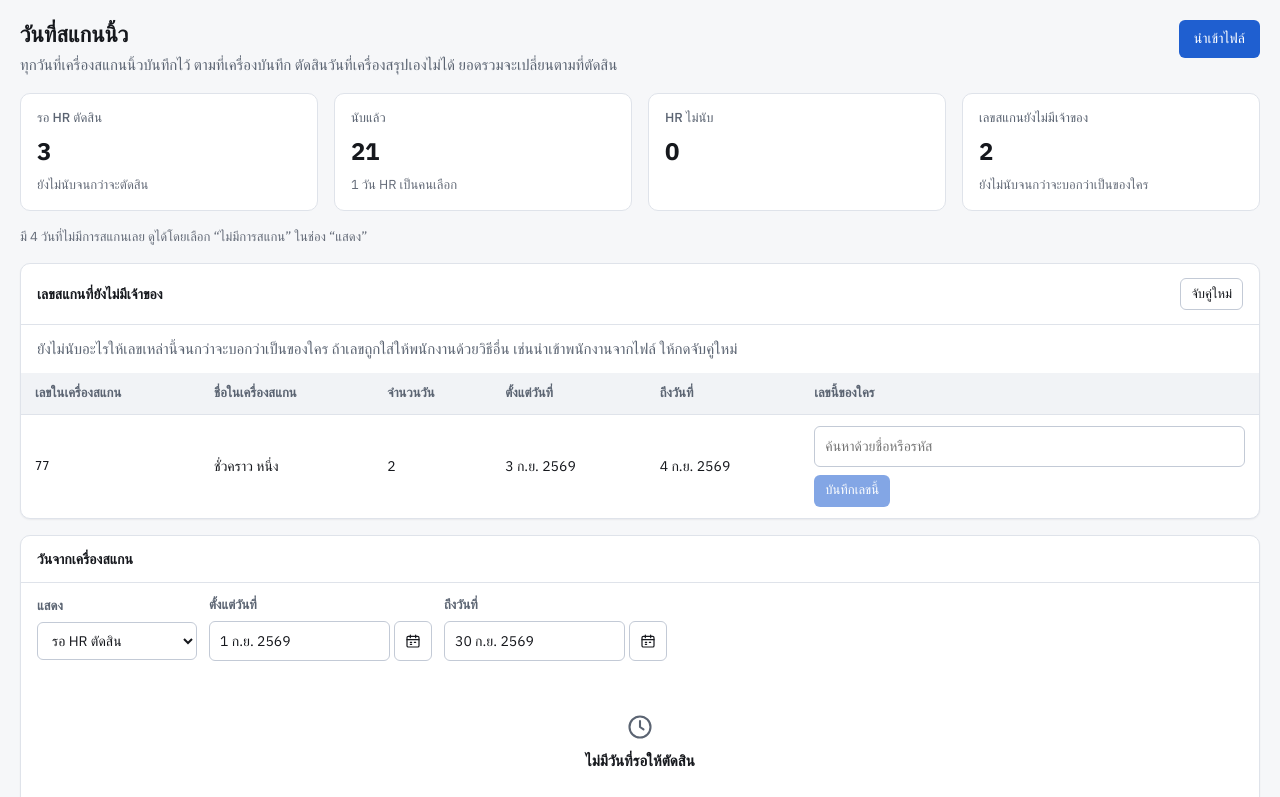
Test: Reviewing the scanner’s days (CW-061) › registers an unregistered number on the employee HR picks
This screenshot has width=1280, height=797.
In the search field named "ค้นหาพนักงานของเลข 77": (1030, 446) [814,426,1245,467], type "มานี"
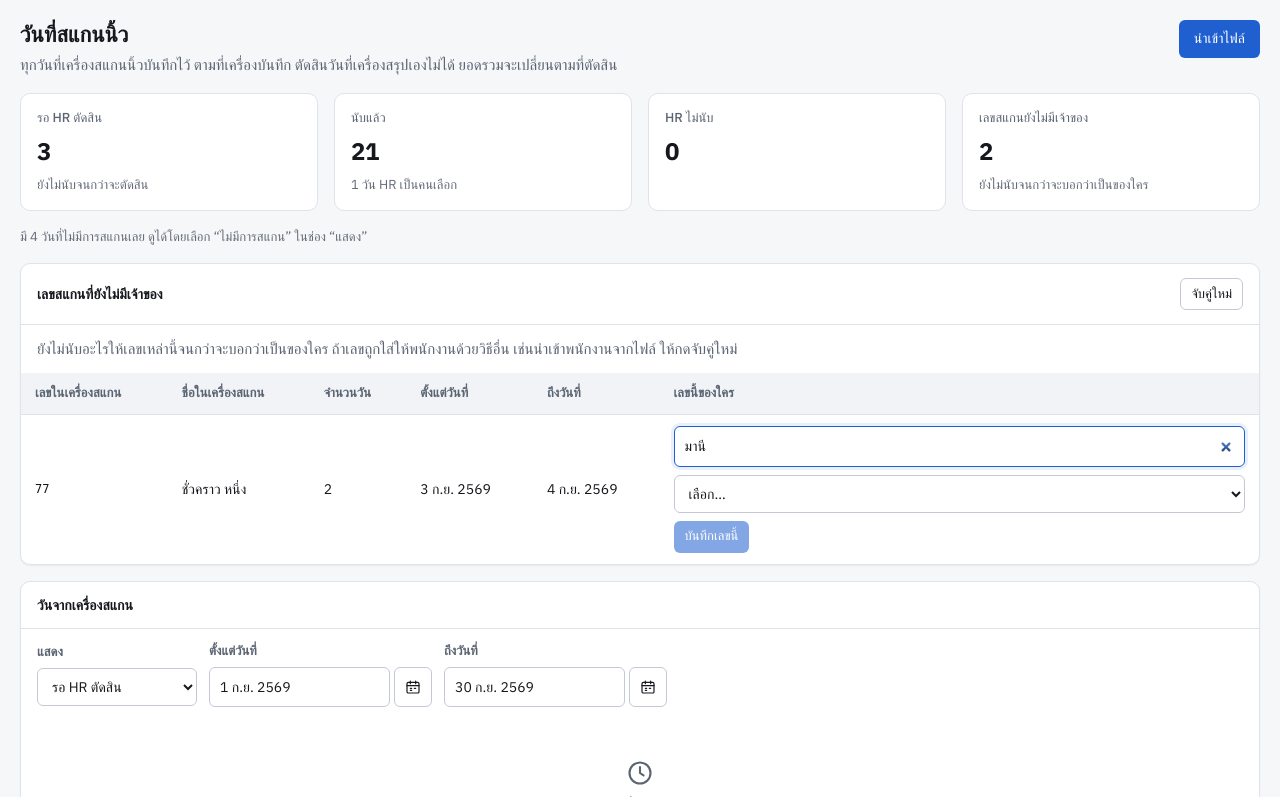
Select "EMP-0009 · มานี มีตา" in the dropdown named "พนักงานของเลข 77": (959, 494) [674,475,1245,513]
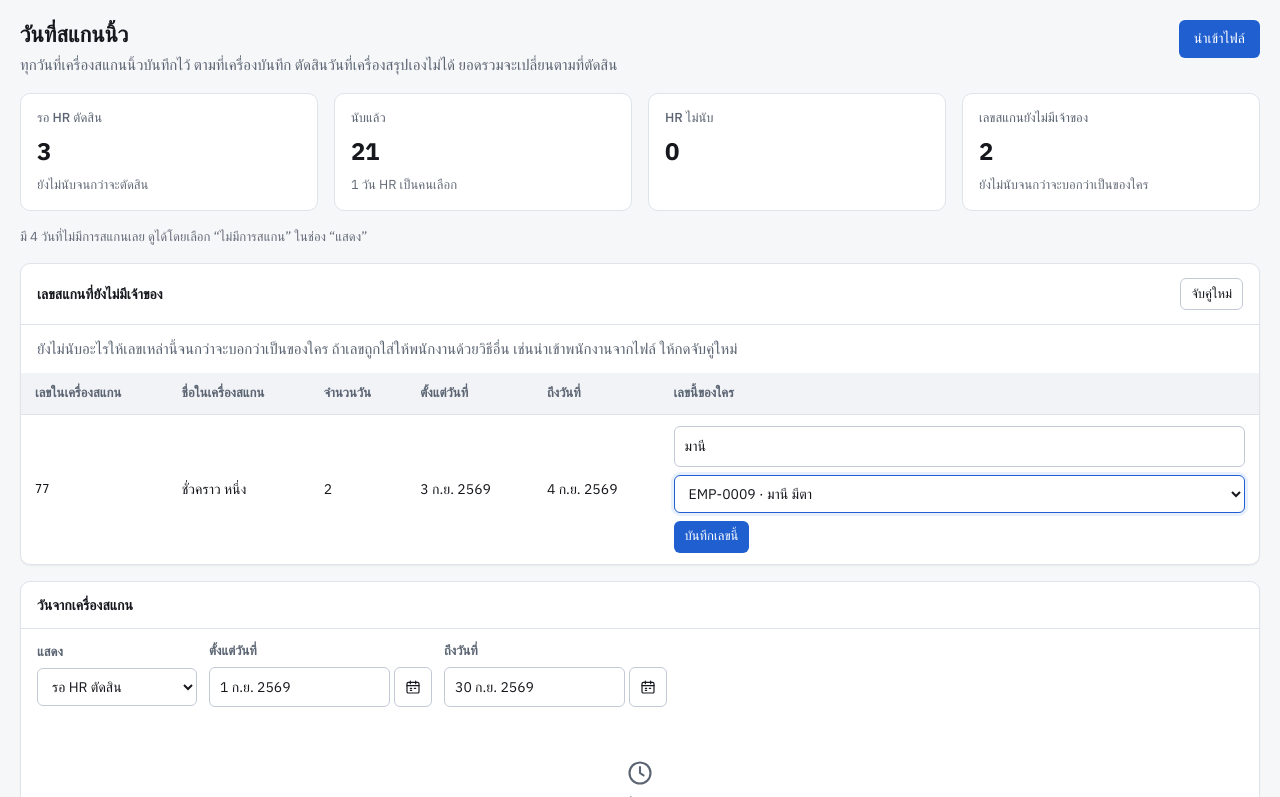
Click the button "บันทึกเลขนี้": (712, 537) [674,521,749,553]
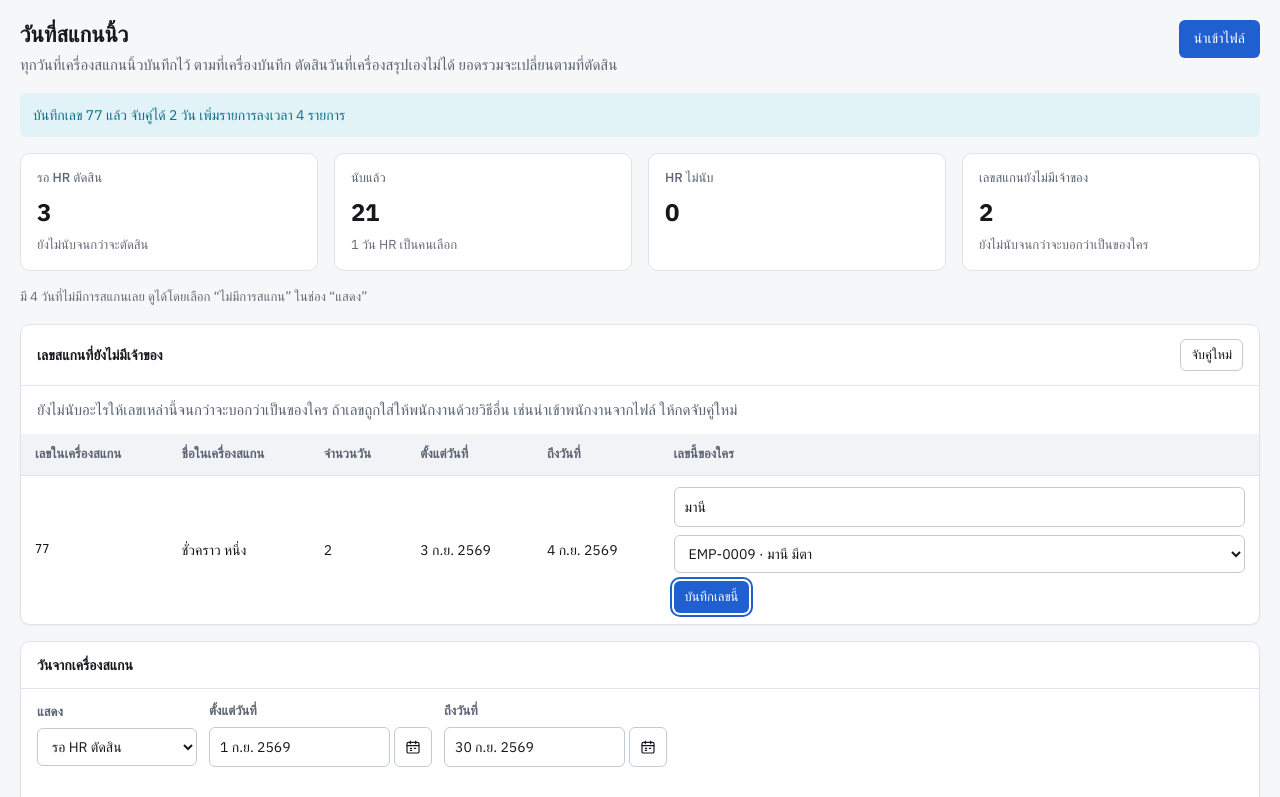
Result: the text "บันทึกเลข 77 แล้ว จับคู่ได้ 2 วัน เพิ่มรายการลงเวลา 4 รายการ" is shown at [20,93,1260,137]
